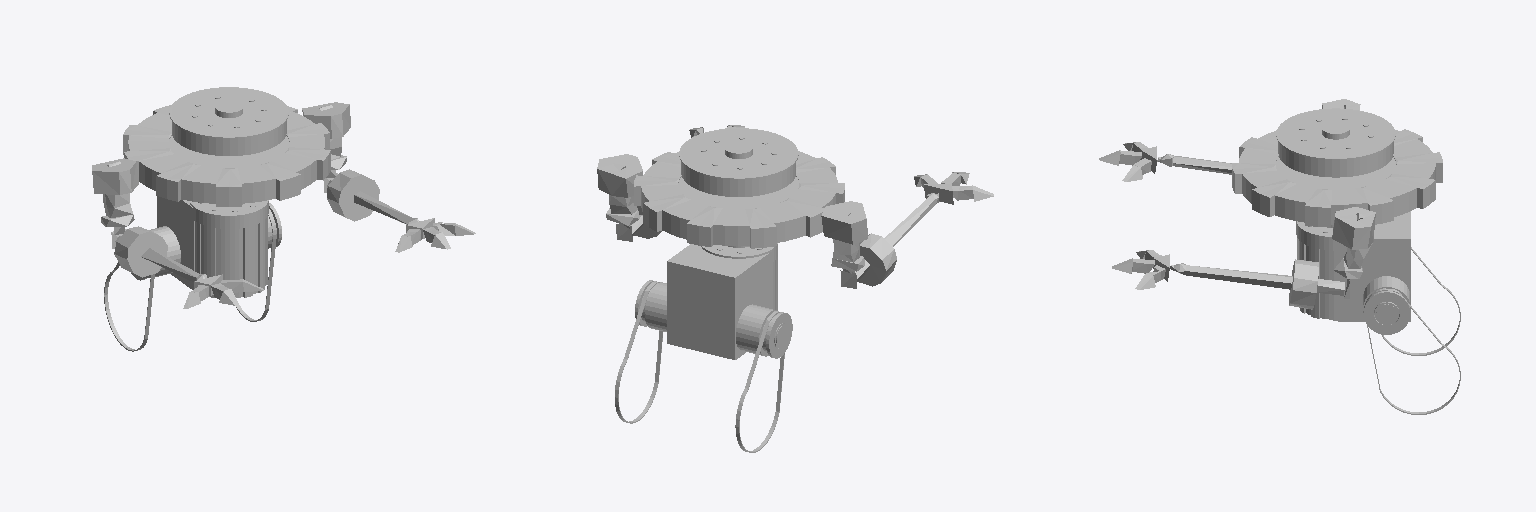
Rendered from RobotRece_000005.obj.
3 renders of one model, left to right at view 1: azimuth 30°, elevation 25°; view 2: azimuth 150°, elevation 25°; view 3: azimuth 270°, elevation 25°, orthographic.
Parts seen in each view (by area): view 1: Cylinder.007, Cube_Cube.003; view 2: Cylinder.007, Cube_Cube.003; view 3: Cylinder.007, Cube_Cube.003.
Boxes of the visible parts, box(x1,y1,x2,y2) form: Cylinder.007: box(104, 87, 330, 351); Cube_Cube.003: box(92, 102, 475, 308); Cylinder.007: box(615, 128, 844, 452); Cube_Cube.003: box(597, 125, 993, 288); Cylinder.007: box(1232, 108, 1460, 414); Cube_Cube.003: box(1099, 99, 1375, 309).
Bounding box in the file's own units: 4.59 × 3.78 × 4.83.